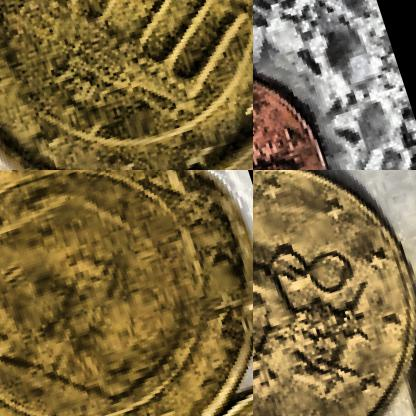coin: (0, 170, 252, 415), (0, 0, 252, 169), (253, 170, 415, 415), (253, 31, 378, 169)
